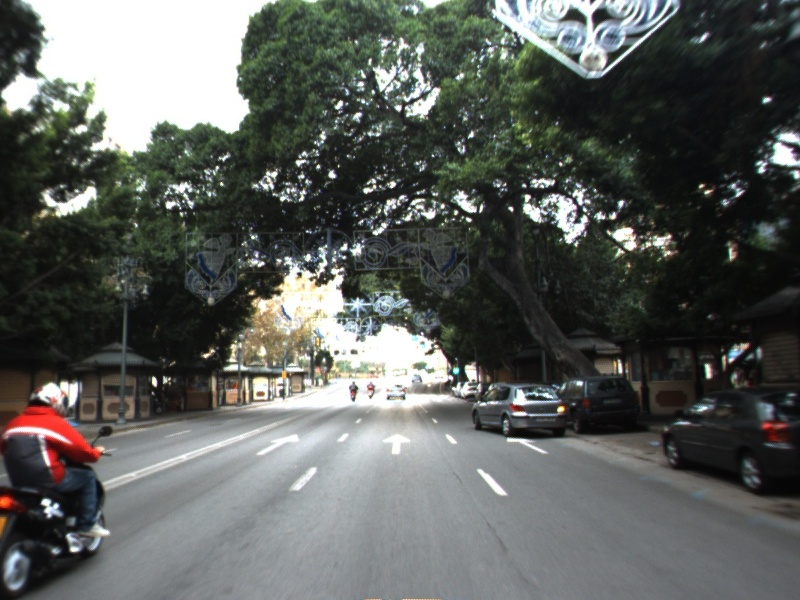STRAIGHT: (254, 432, 301, 457), (505, 435, 551, 456), (380, 431, 413, 456)
